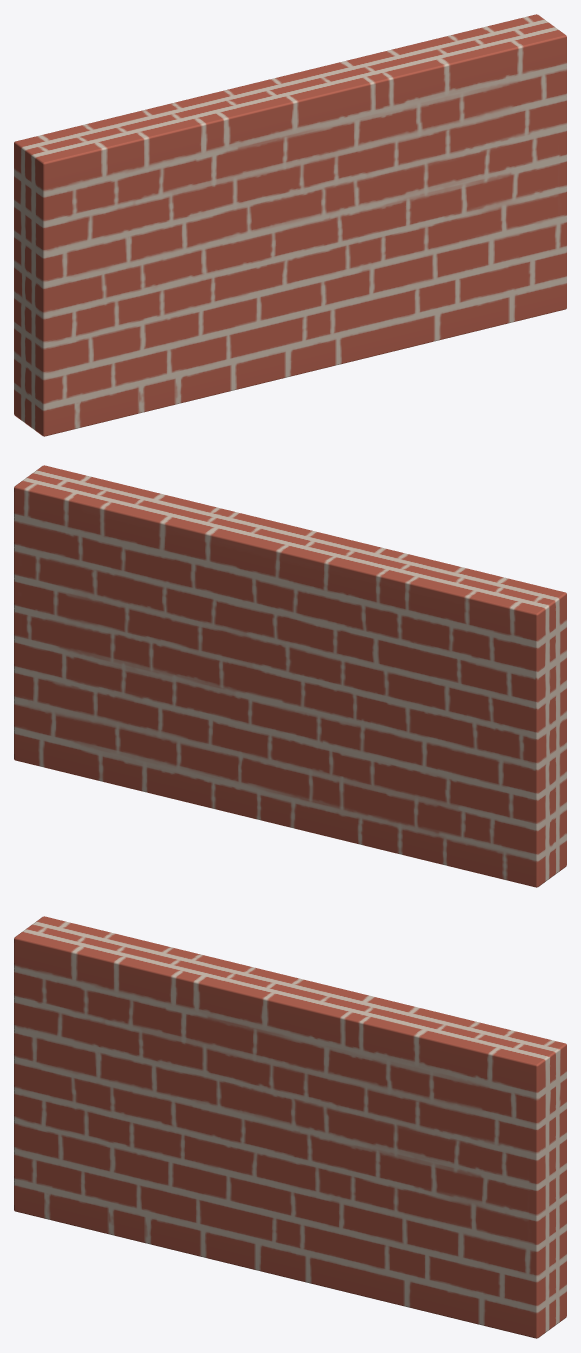
Rendered from wall.fbx.
3 views of the same model, one above another, from view 1: azimuth 30°, elevation 25°; view 2: azimuth 150°, elevation 25°; view 3: azimuth 330°, elevation 25° (orthographic).
Parts seen in each view (by area): view 1: wall_mesh; view 2: wall_mesh; view 3: wall_mesh.
Part boxes in pixels (bbox=[...]): wall_mesh: bbox=[14, 14, 566, 436]; wall_mesh: bbox=[14, 465, 566, 887]; wall_mesh: bbox=[14, 916, 566, 1338].
Bounding box in the file's own units: 400 × 200 × 40.
